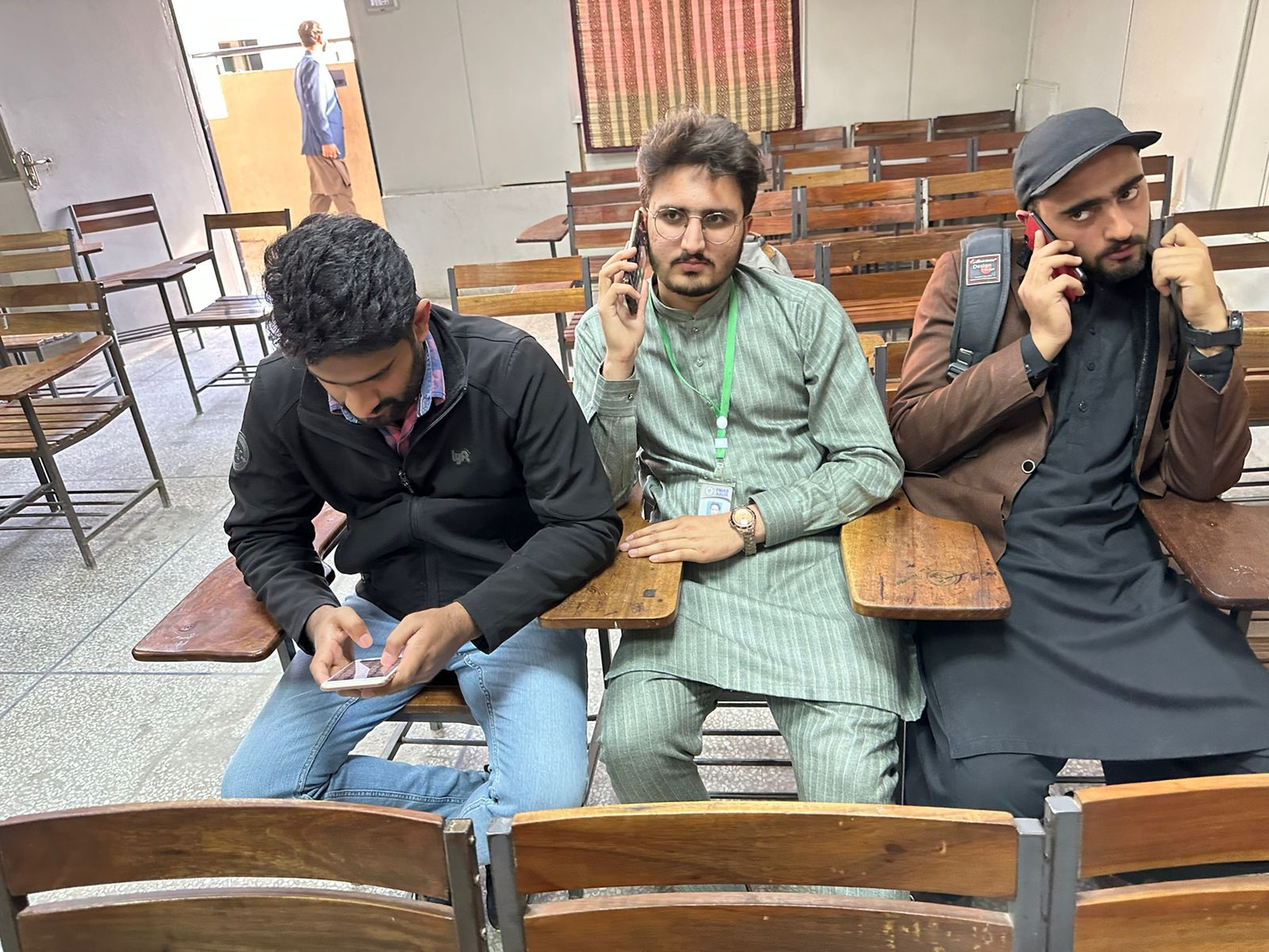phone: (308, 595, 457, 701), (1015, 207, 1088, 305), (597, 206, 650, 333)
